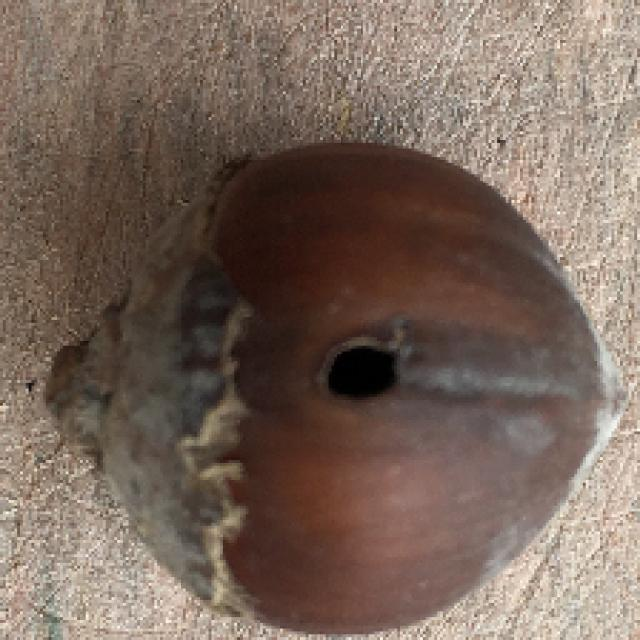damagedHazelnut: (53, 139, 623, 638)
